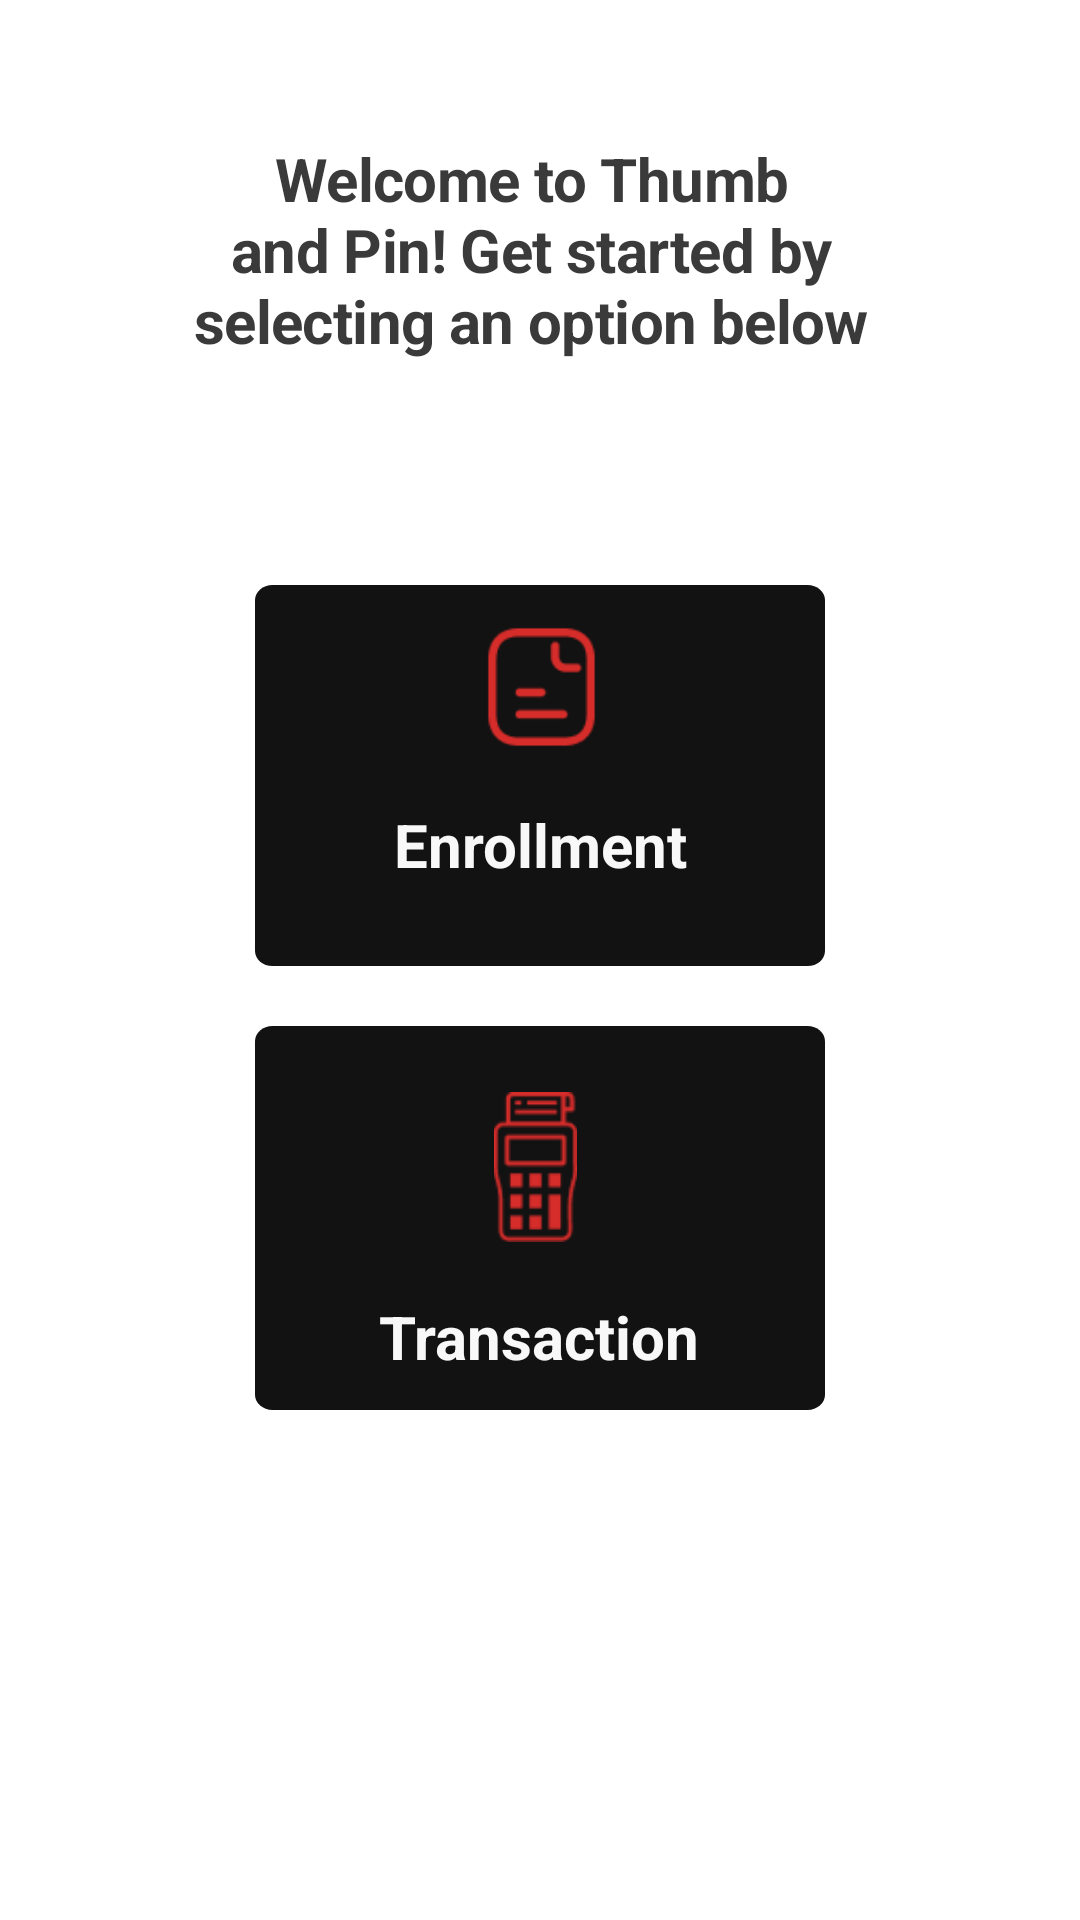

Where icons sit on this 1080 × 1920 app screen, as (x1, y1, x2, y2):
document text: (488, 628, 595, 746)
pos: (494, 1092, 577, 1242)
